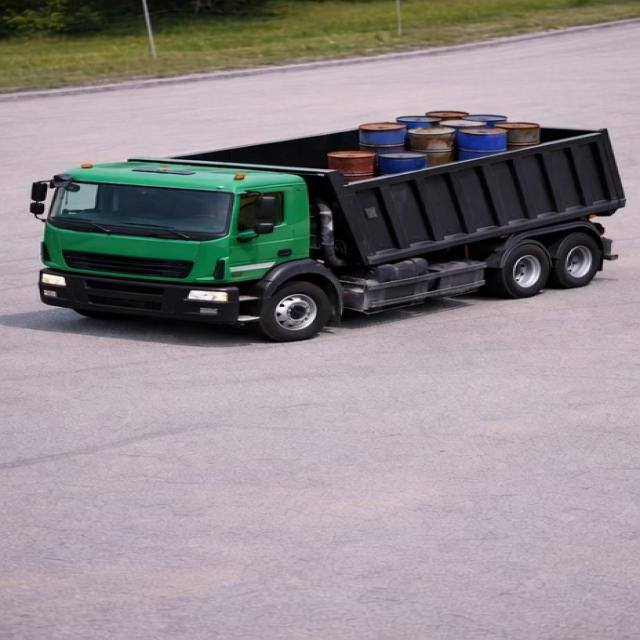Box: (115, 108, 617, 180)
Truck: (28, 84, 636, 337)
